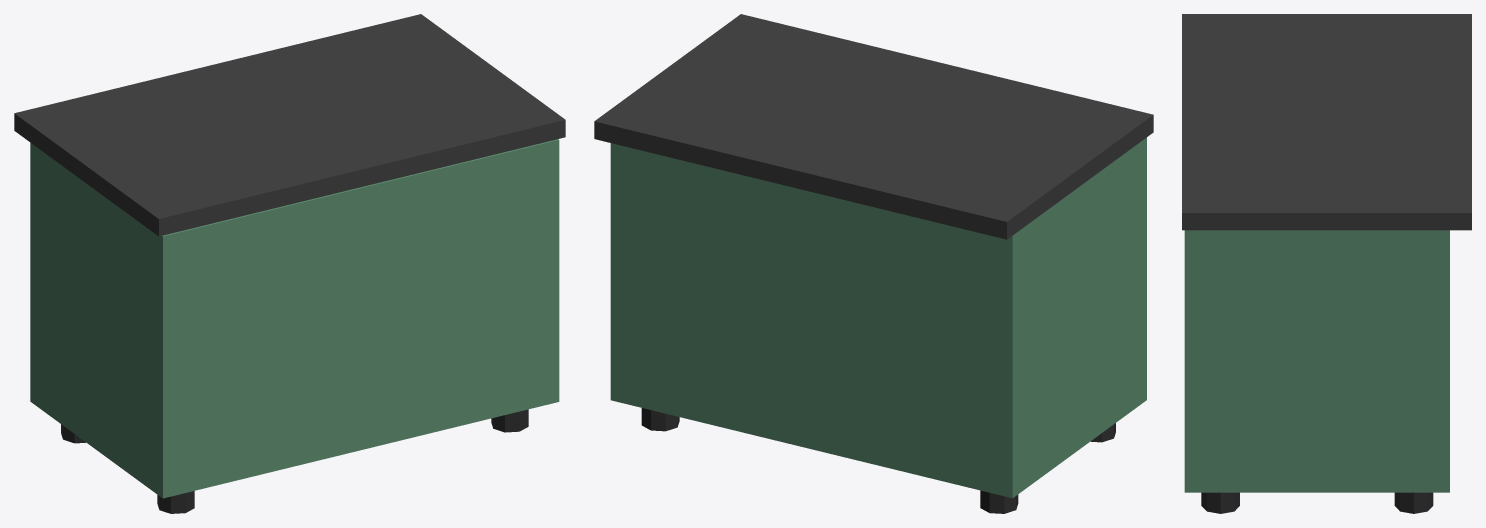
The model's file is SM_Dumpster_A.fbx.
3 renders of one model, left to right at view 1: azimuth 30°, elevation 25°; view 2: azimuth 150°, elevation 25°; view 3: azimuth 270°, elevation 25°, orthographic.
Visible parts, largest first — view 1: SM_Dumpster_A_LOD0; view 2: SM_Dumpster_A_LOD0; view 3: SM_Dumpster_A_LOD0.
Part boxes in pixels (x1,y1,x2,y2): SM_Dumpster_A_LOD0: (14,14,565,513); SM_Dumpster_A_LOD0: (594,14,1153,513); SM_Dumpster_A_LOD0: (1182,14,1471,513).
Size of what is drawn, in the model's own units: 1.95 by 1.42 by 1.2.
